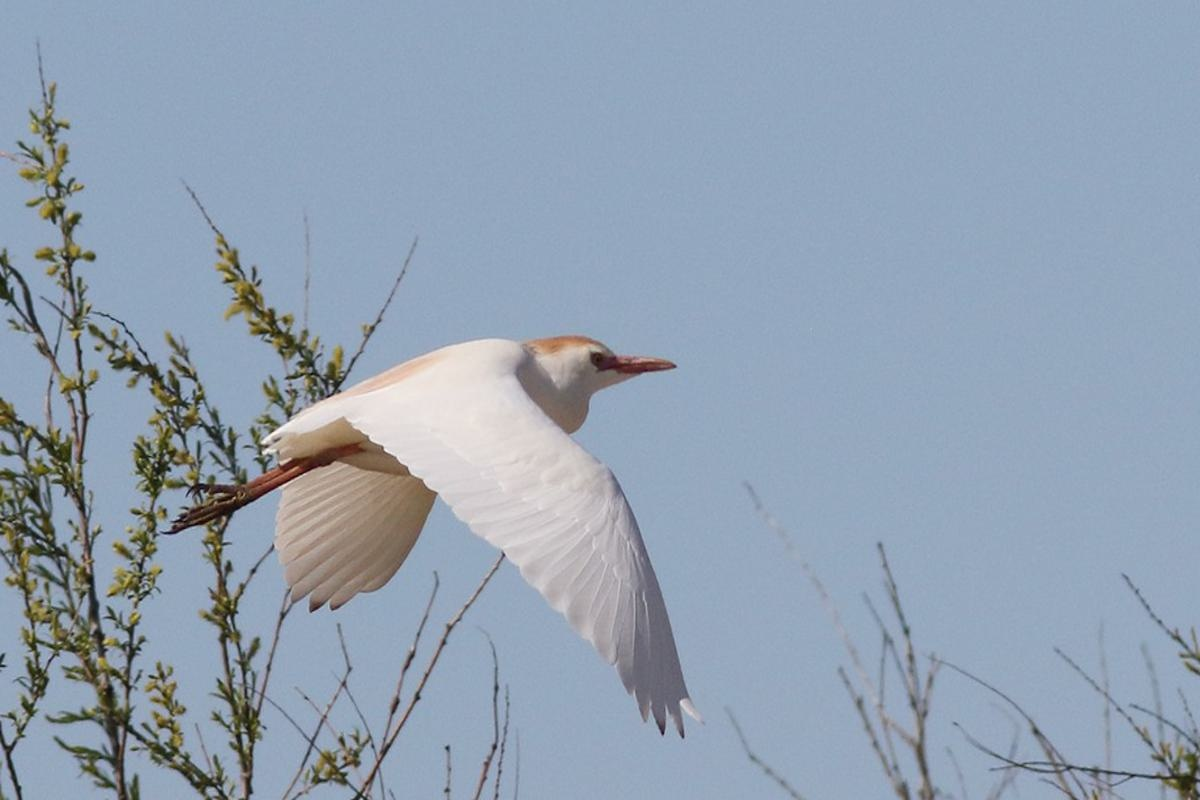egret: (209, 237, 764, 724)
